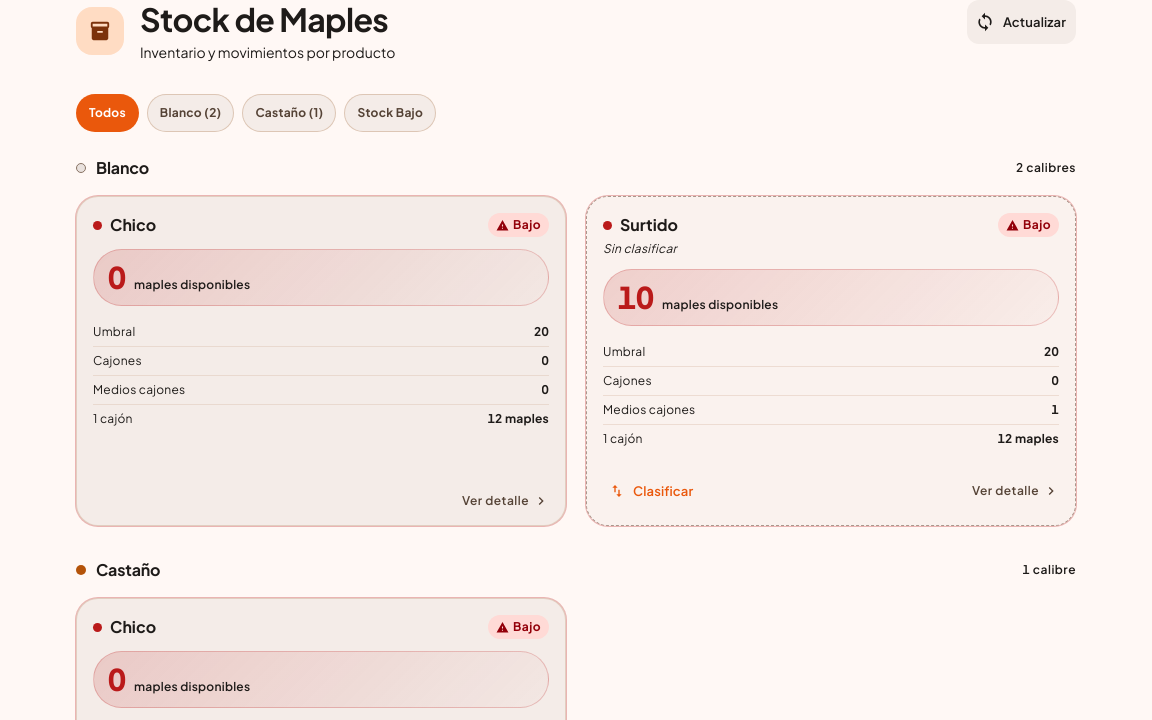
StockPage — Clasificar dialog › blocks a classify that exceeds the available stock (live Σ validation)
The width and height of the screenshot is (1152, 720).
Click the button "Clasificar" at x=652, y=491, box 603,473 -> 701,509
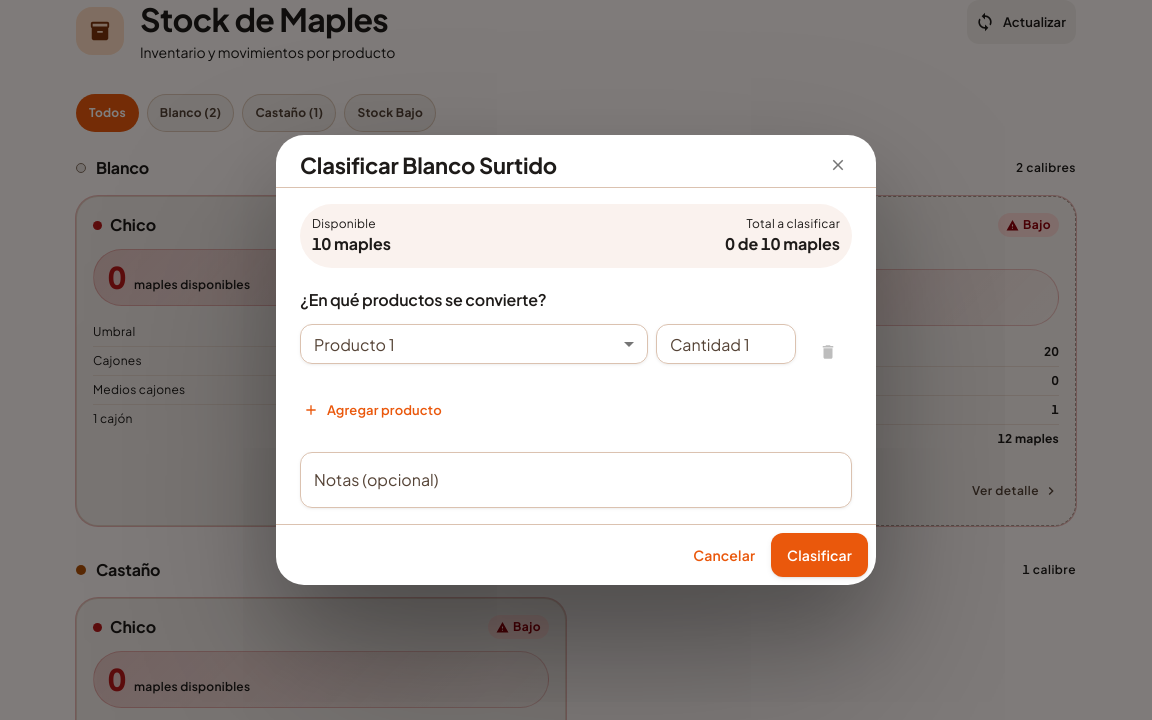
Expected: the text "10 maples" is shown, 312,232 -> 391,256
Expected: the text "0 de 10 maples" is shown, 725,232 -> 840,256
Type "12" into the number field labelled "Cantidad 1" at x=726, y=344, box 656,324 -> 796,364
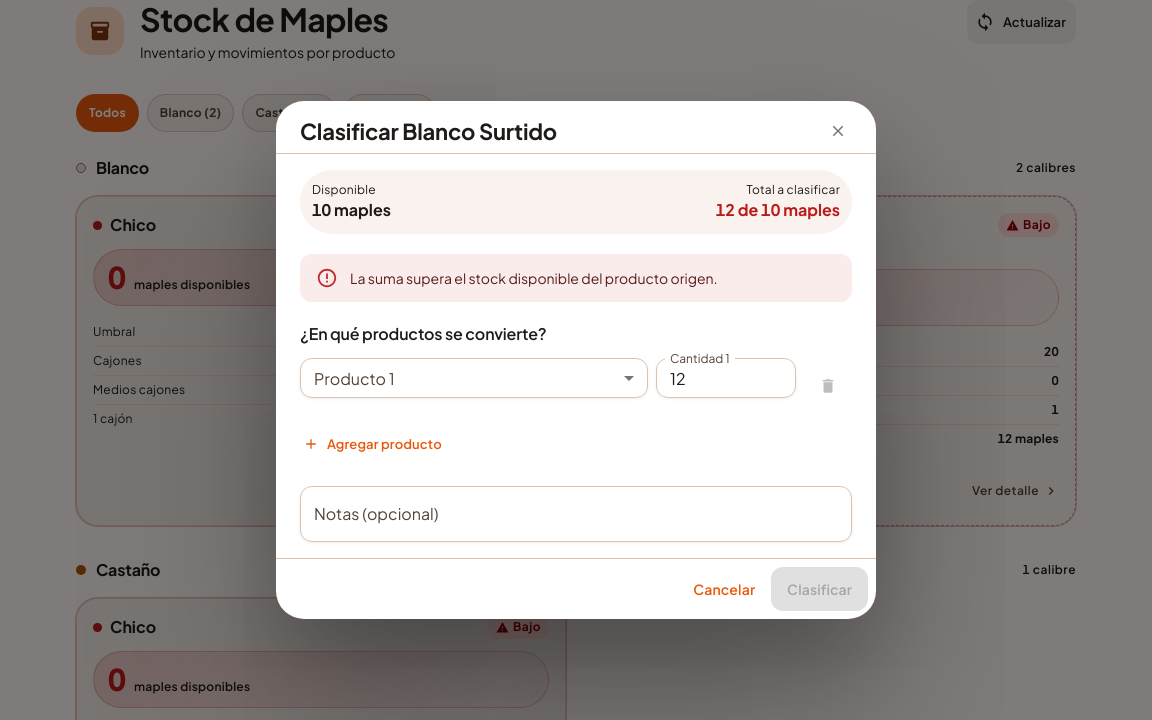
Expected: the text "12 de 10 maples" is shown, 716,198 -> 840,222
Expected: the text "La suma supera el stock disponible del producto origen." is shown, 350,269 -> 718,287
Expected: the button "Clasificar" is disabled, 771,567 -> 868,611
